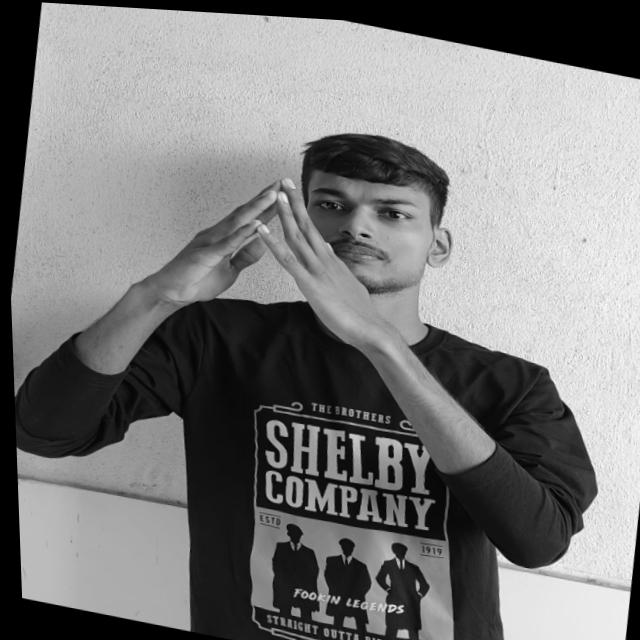Home: (155, 156, 385, 350)
